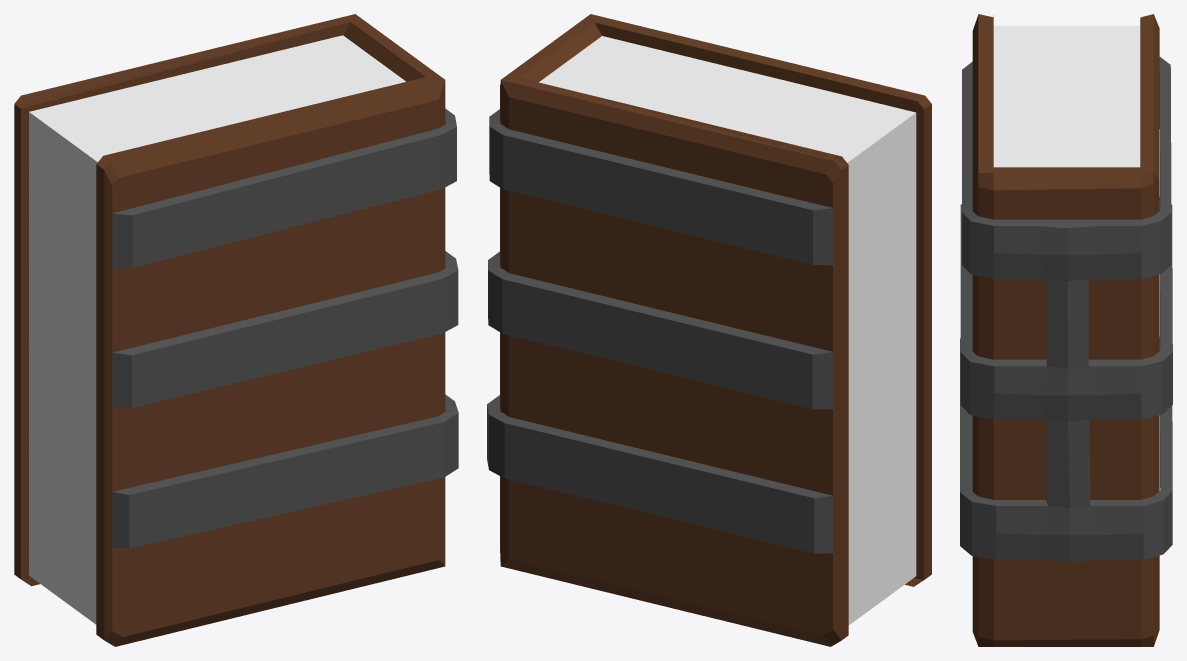
Rendered from bookframe01.obj.
3 views of the same model, side by side, from view 1: azimuth 30°, elevation 25°; view 2: azimuth 150°, elevation 25°; view 3: azimuth 270°, elevation 25° (orthographic). The views are drawn at different scales.
Visible parts, largest first — view 1: Cube.001_Cube.004; view 2: Cube.001_Cube.004; view 3: Cube.001_Cube.004.
Part boxes in pixels (x1,y1,x2,y2): Cube.001_Cube.004: (14, 14, 458, 646); Cube.001_Cube.004: (487, 14, 931, 646); Cube.001_Cube.004: (960, 14, 1172, 646).
Bounding box in the file's own units: 0.1573 × 0.2005 × 0.0816.
